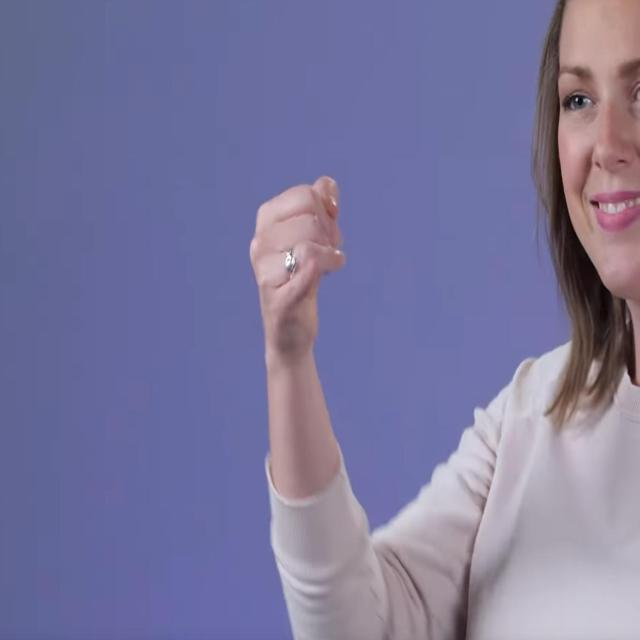J: (248, 170, 349, 349)
